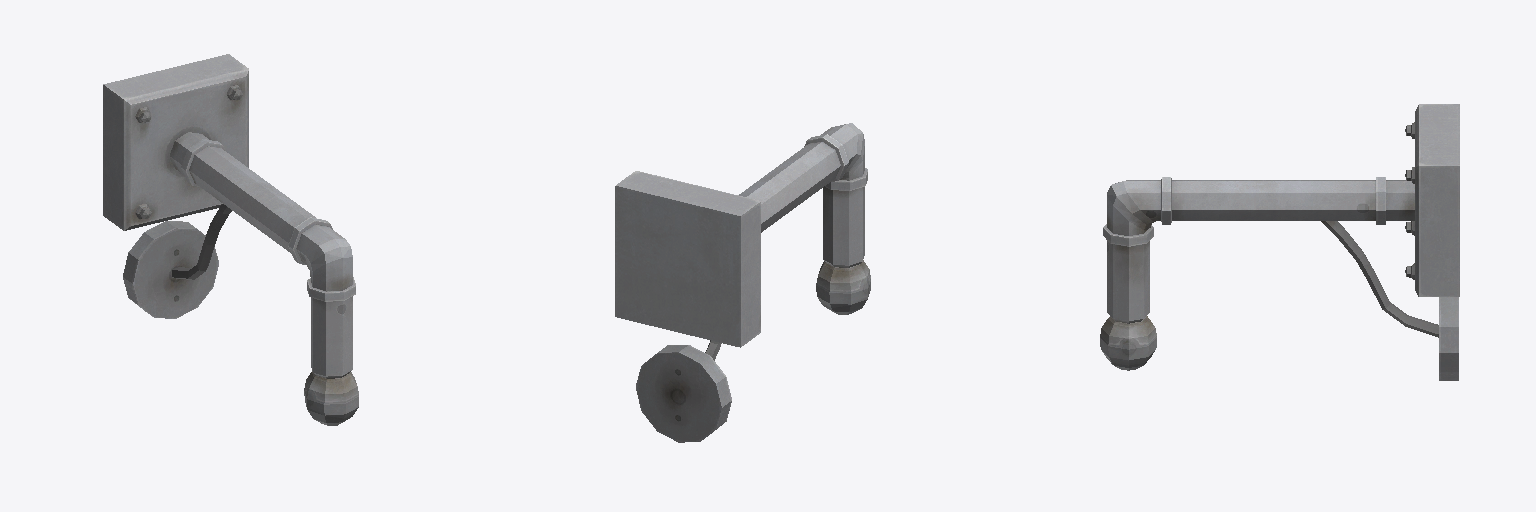
3 renders of one model, left to right at view 1: azimuth 30°, elevation 25°; view 2: azimuth 150°, elevation 25°; view 3: azimuth 270°, elevation 25°, orthographic.
Visible parts, largest first — view 1: SM_TC5CamarmB; view 2: SM_TC5CamarmB; view 3: SM_TC5CamarmB.
Part boxes in pixels (bbox=[...]): SM_TC5CamarmB: bbox=[103, 54, 358, 425]; SM_TC5CamarmB: bbox=[615, 123, 870, 442]; SM_TC5CamarmB: bbox=[1100, 104, 1459, 380].
Size of the model in its own units: 2.52 by 4.64 by 6.26.
1 materials, 1 textured.